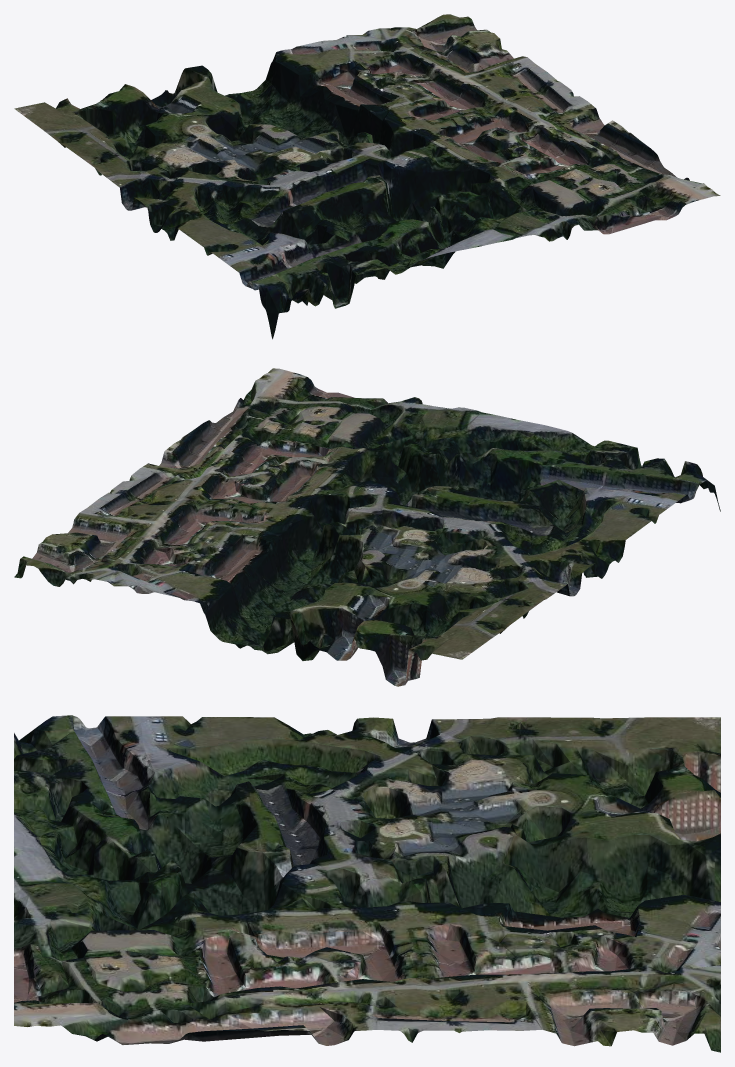
The model's file is map_13_2042_3448.dae.
The picture shows the model from 3 angles, top to bottom: view 1: azimuth 30°, elevation 25°; view 2: azimuth 150°, elevation 25°; view 3: azimuth 270°, elevation 25°; orthographic projection. The views are drawn at different scales.
Parts seen in each view (by area): view 1: Ter0; view 2: Ter0; view 3: Ter0.
Part boxes in pixels (x1,y1,x2,y2): Ter0: (14,14,720,339); Ter0: (14,368,720,686); Ter0: (14,715,720,1052).
Size of the model in its own units: 256 by 256 by 32.49.
3 materials, 3 textured.
